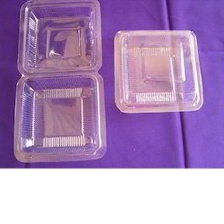plastic_box: (7, 0, 114, 168), (109, 23, 208, 120)
